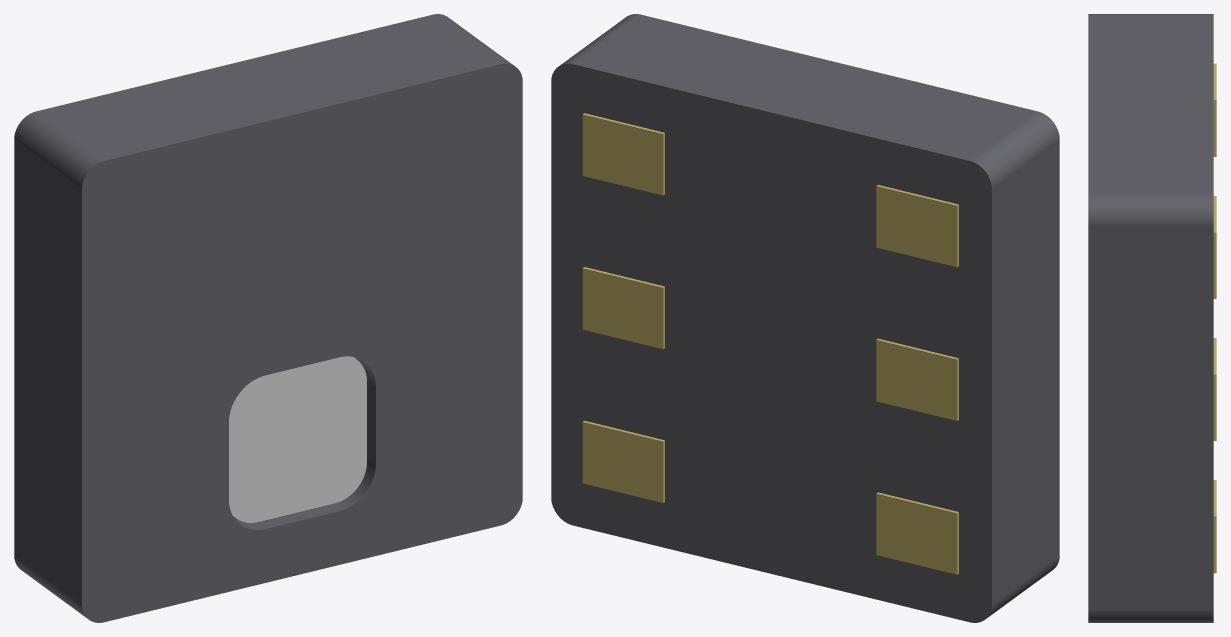
The model's file is aht21.glb.
3 renders of one model, left to right at view 1: azimuth 30°, elevation 25°; view 2: azimuth 150°, elevation 25°; view 3: azimuth 270°, elevation 25°, orthographic. The views are drawn at different scales.
Visible parts, largest first — view 1: world; view 2: world; view 3: world.
Part boxes in pixels (x1,y1,x2,y2): world: (14, 14, 522, 622); world: (551, 14, 1059, 622); world: (1088, 14, 1216, 622).
Size of the model in its own units: 3 by 3 by 0.82.
